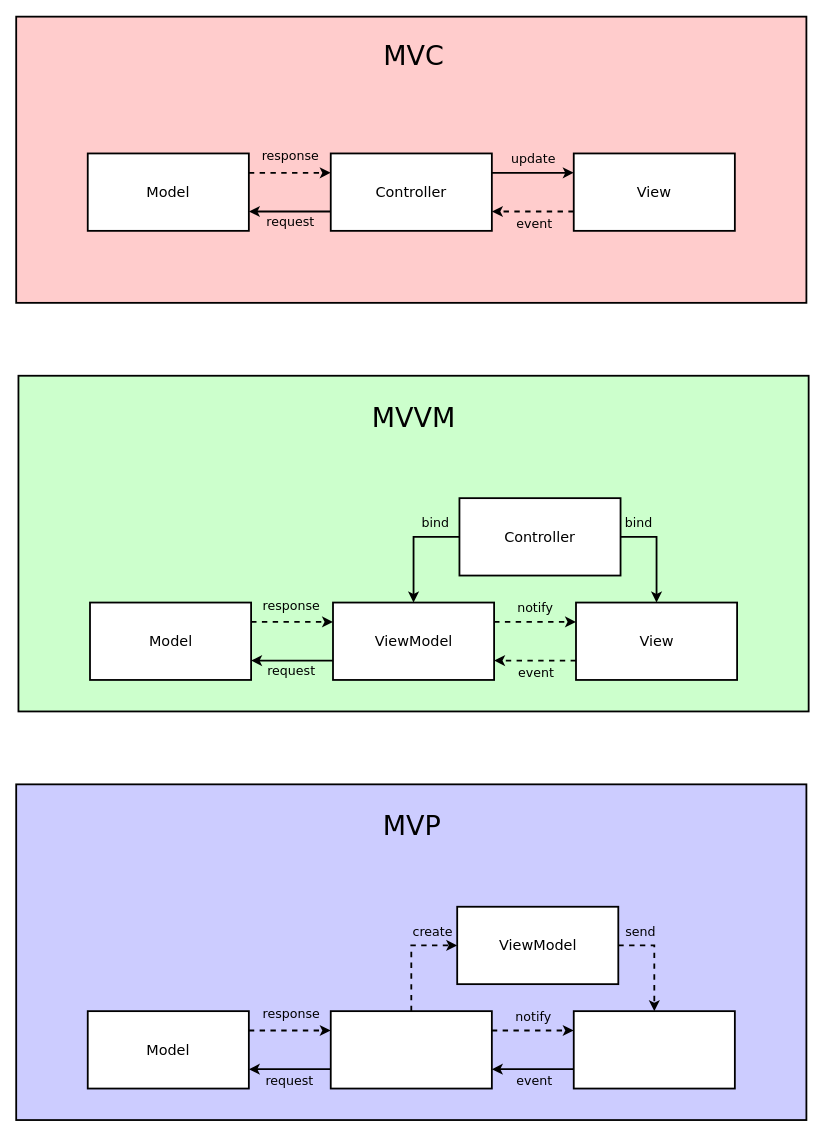
Some shapes in this 825 by 1136 pixel diagram are drawn without their labels. The centre of each missing label's shape, as x and y in pixels:
"Controller/View" goes at (653,1049).
"Presenter" goes at (410,1049).
